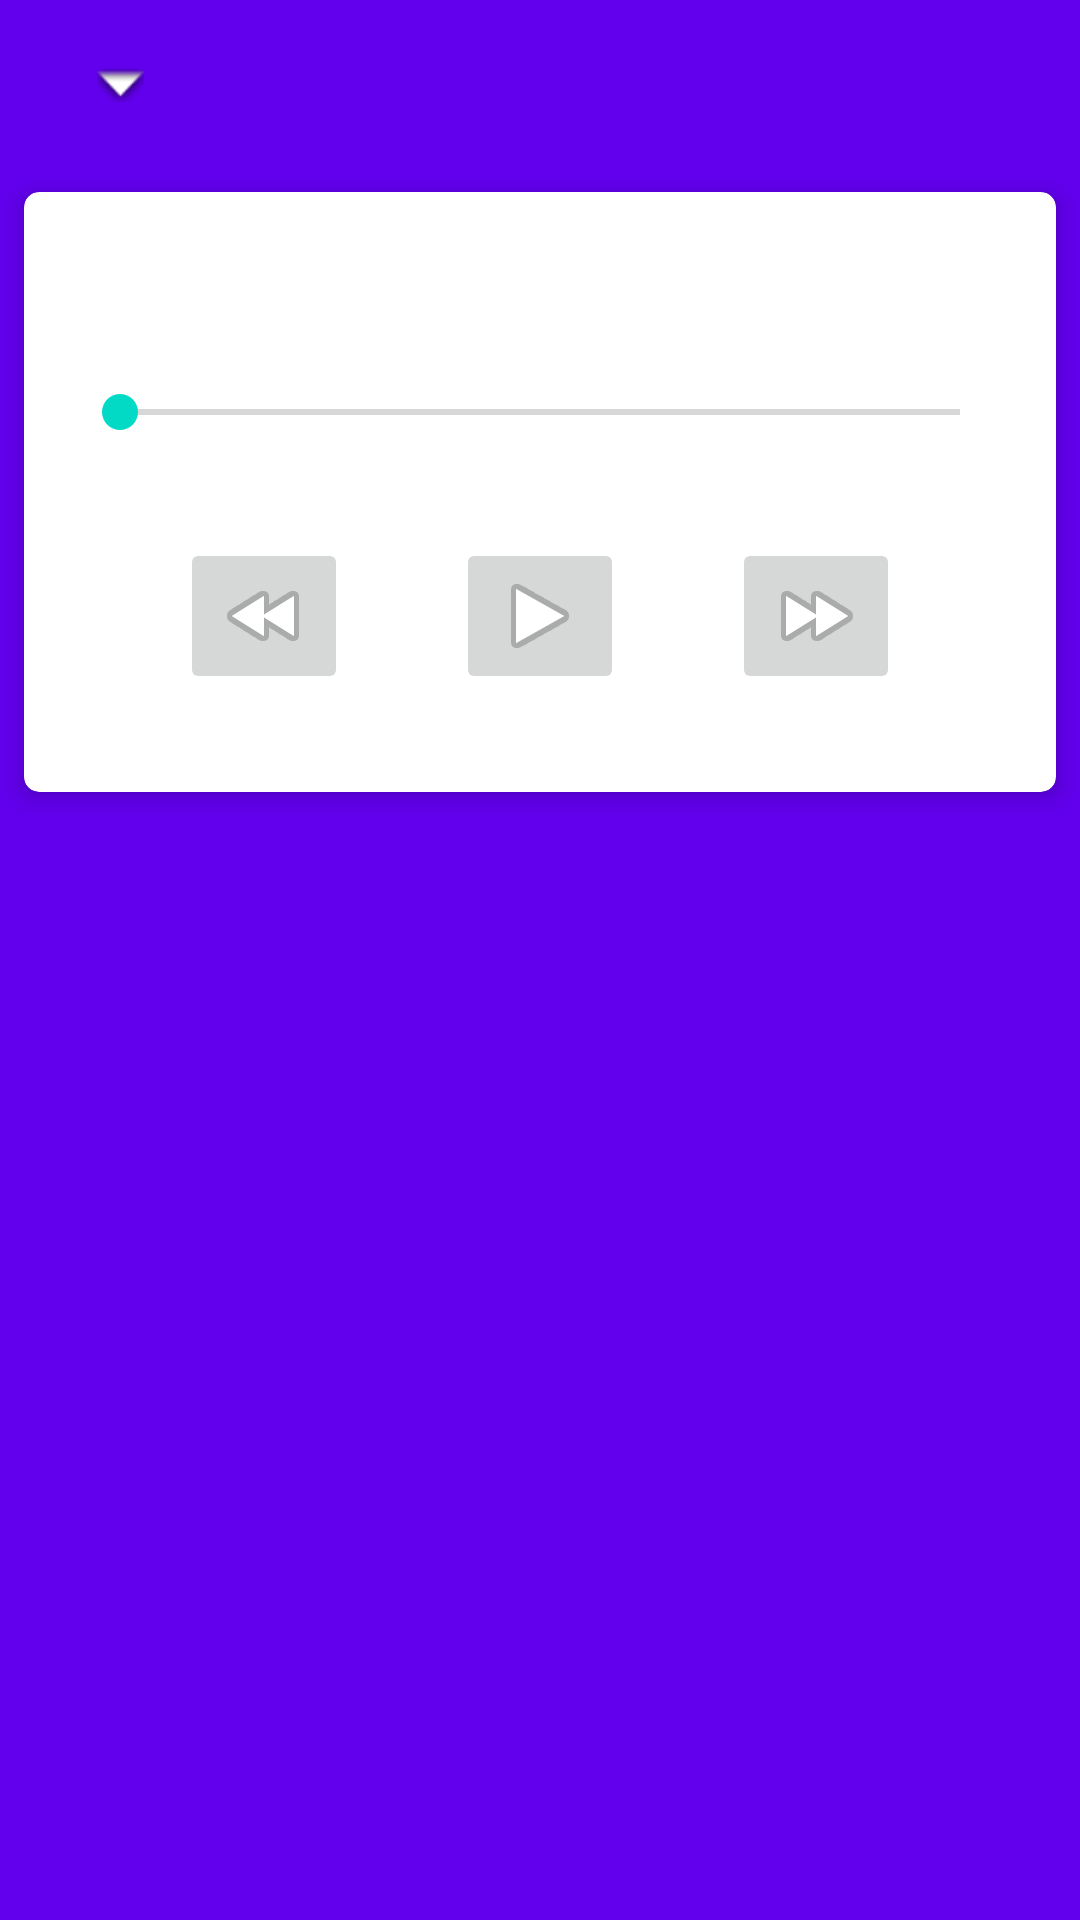

Icon bounding boxes for this 1080w x 1920h phone screenshot, format BBox(x1, y1, x2, y2):
play: BBox(468, 556, 612, 676)
rew: BBox(192, 556, 336, 676)
